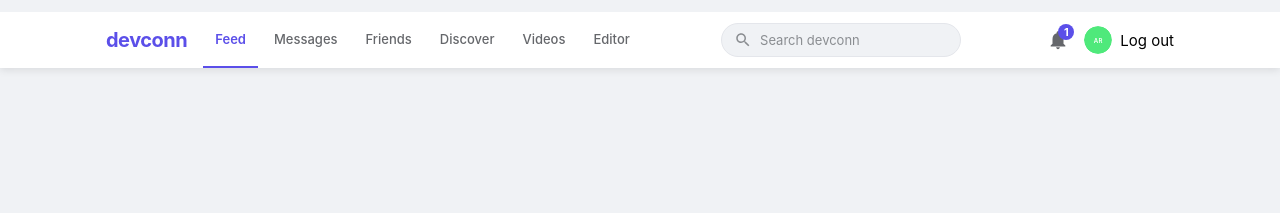
Test: AppHeader › toggling the bell opens the notifications dropdown
The width and height of the screenshot is (1280, 213).
Click the button named "Notifications" at (1058, 40), box x1=1040 y1=22 x2=1076 y2=58
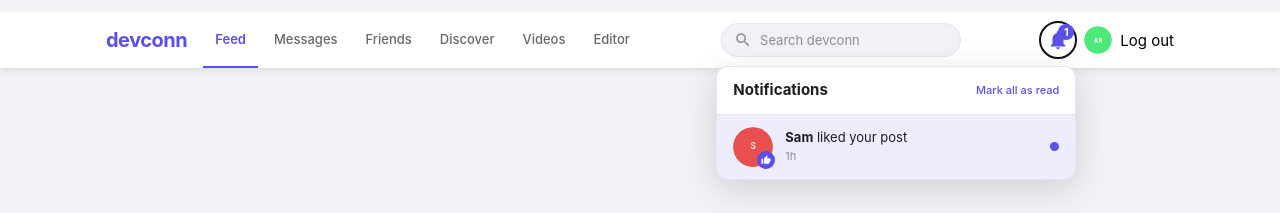
Check: the text "liked your post" is shown, box x1=817 y1=129 x2=907 y2=145
